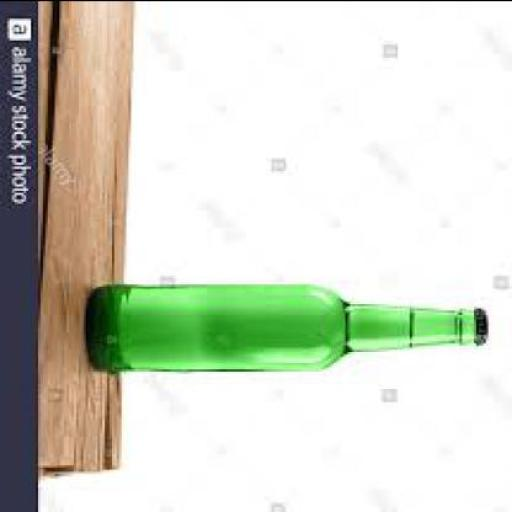glass: (86, 279, 480, 371)
metal: (481, 302, 493, 340)
